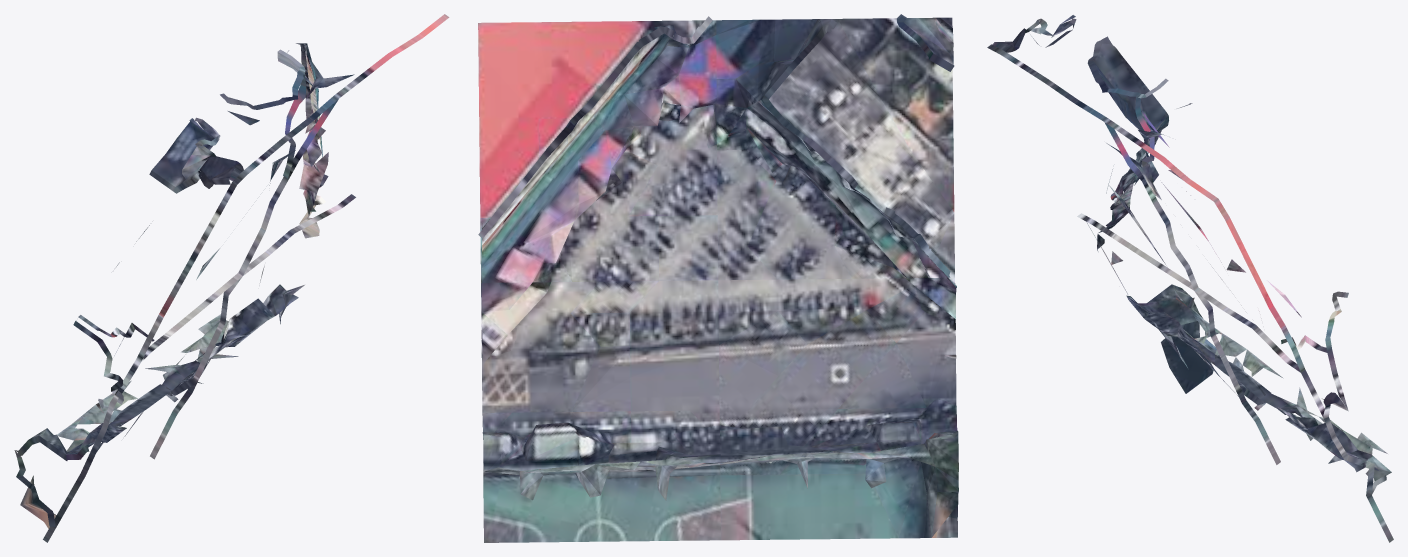
3 renders of one model, left to right at view 1: azimuth 30°, elevation 25°; view 2: azimuth 150°, elevation 25°; view 3: azimuth 270°, elevation 25°, orthographic. The views are drawn at different scales.
Size of the model in its own units: 39.71 by 37.36 by 32.7.
1 material, 1 textured.
